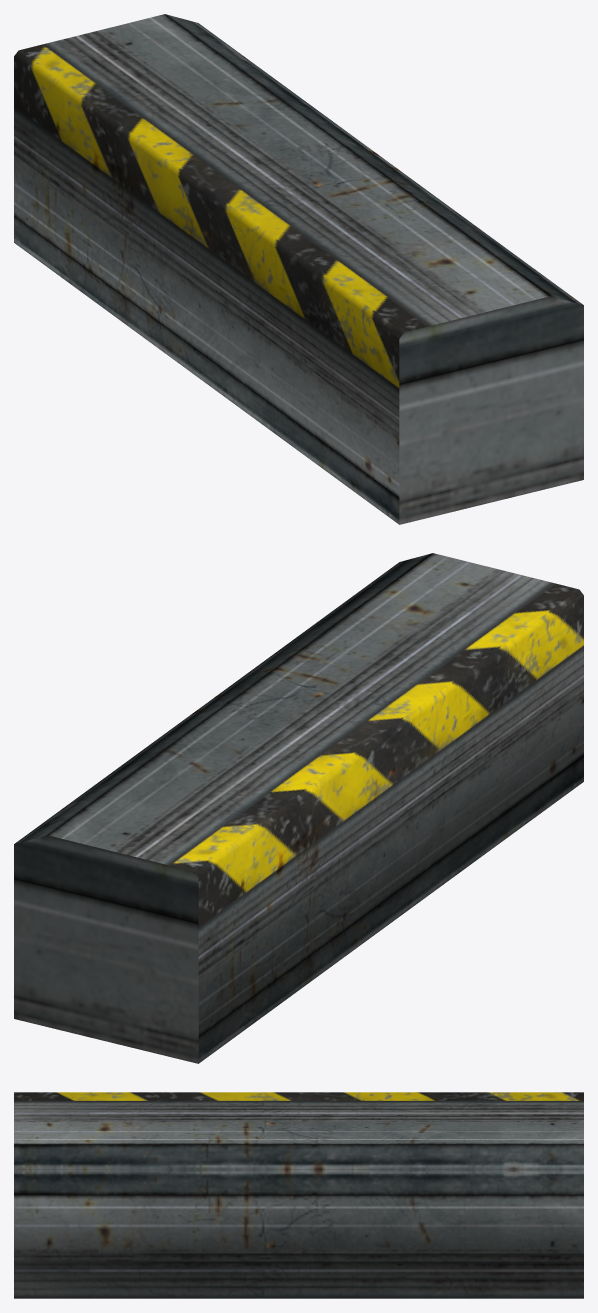
The model's file is Edges_23.fbx.
The picture shows the model from 3 angles, top to bottom: view 1: azimuth 30°, elevation 25°; view 2: azimuth 150°, elevation 25°; view 3: azimuth 270°, elevation 25°; orthographic projection. The views are drawn at different scales.
Visible parts, largest first — view 1: Edges_23; view 2: Edges_23; view 3: Edges_23.
Part boxes in pixels (x1,y1,x2,y2): Edges_23: (14, 14, 583, 524); Edges_23: (14, 553, 583, 1063); Edges_23: (14, 1092, 583, 1298).
Bounding box in the file's own units: 27.63 × 27.46 × 100.
Materials: 1 (1 with a texture image).
